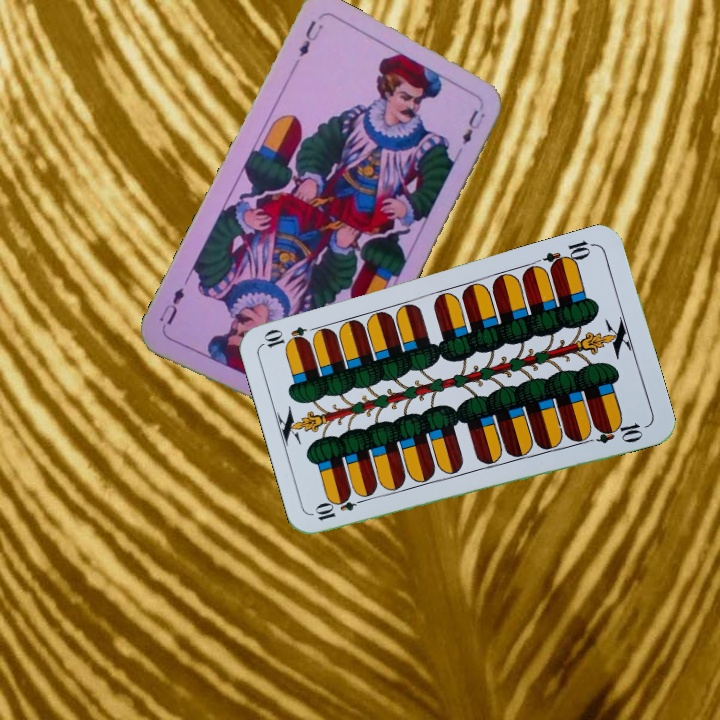E10: (540, 236, 598, 273), (311, 492, 370, 524)
EU: (294, 16, 326, 60)
